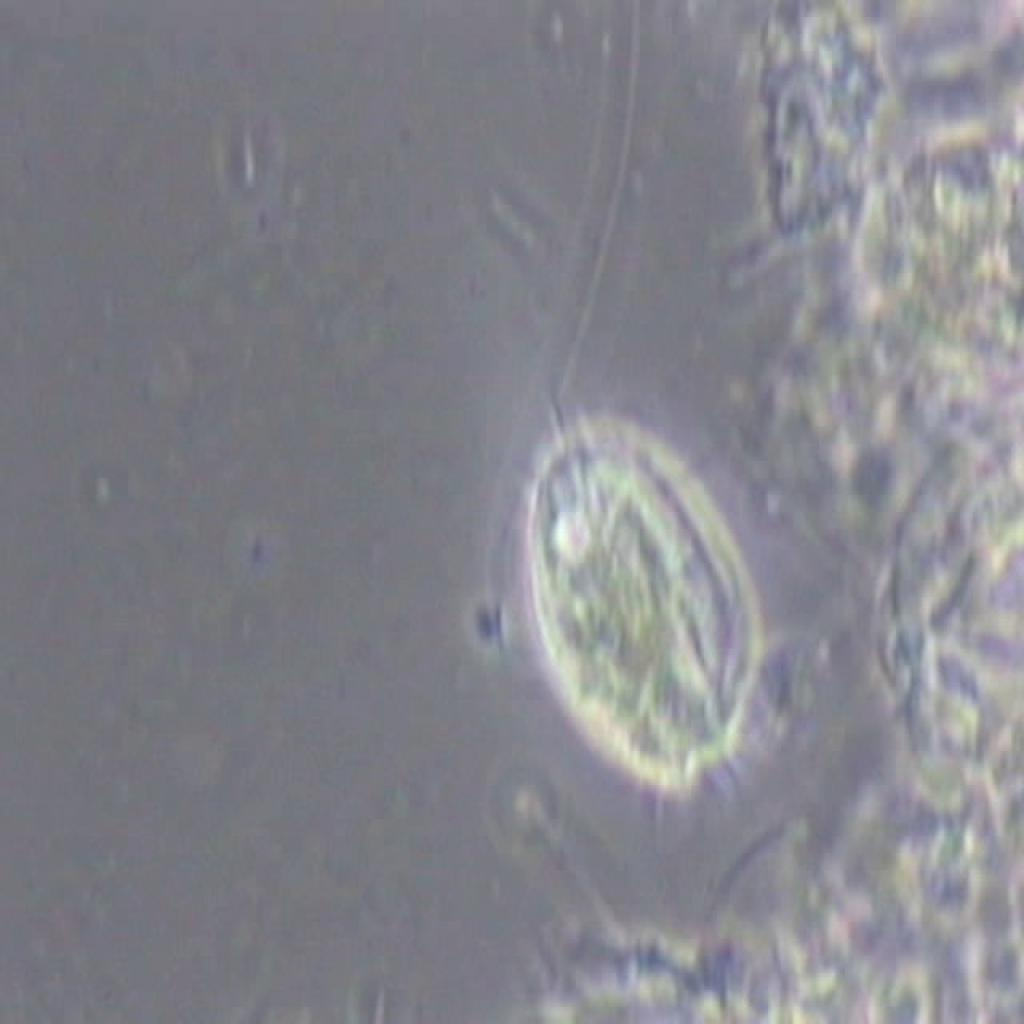Euplotes: (507, 383, 794, 812)
